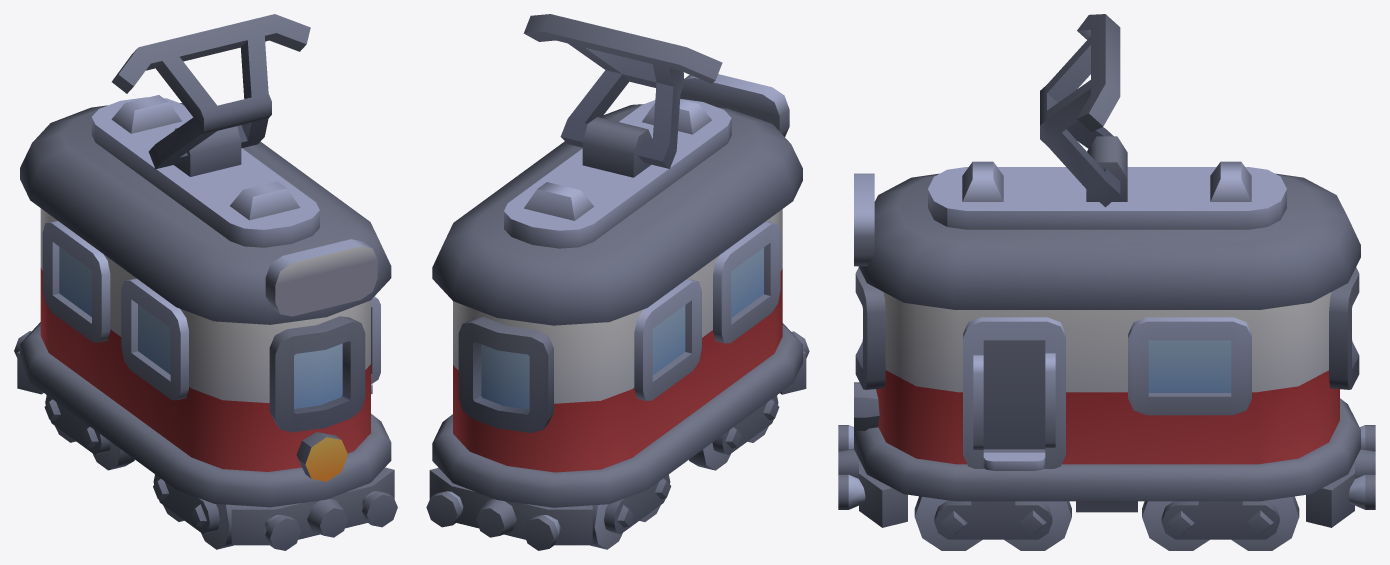
File: train-tram-round.glb
3 renders of one model, left to right at view 1: azimuth 30°, elevation 25°; view 2: azimuth 150°, elevation 25°; view 3: azimuth 270°, elevation 25°, orthographic. The views are drawn at different scales.
Parts seen in each view (by area): view 1: train-tram-round, collector, Group, wheels-front, wheels-back; view 2: train-tram-round, collector, Group, wheels-back, wheels-front; view 3: train-tram-round, Group, collector, wheels-front, wheels-back.
Boxes of the visible parts, x1,y1,x2,y2 form: train-tram-round: (14, 95, 397, 550); collector: (112, 14, 310, 169); Group: (91, 97, 319, 247); wheels-front: (153, 474, 233, 549); wheels-back: (44, 395, 134, 470); train-tram-round: (426, 74, 809, 550); collector: (523, 14, 722, 168); Group: (504, 99, 731, 248); wheels-back: (590, 474, 671, 549); wheels-front: (689, 395, 779, 470); train-tram-round: (838, 136, 1375, 527); Group: (928, 167, 1286, 229); collector: (1040, 14, 1120, 207); wheels-front: (914, 496, 1071, 550); wheels-back: (1142, 496, 1299, 550).
Size of the model in its own units: 1.25 by 2.49 by 2.6.
